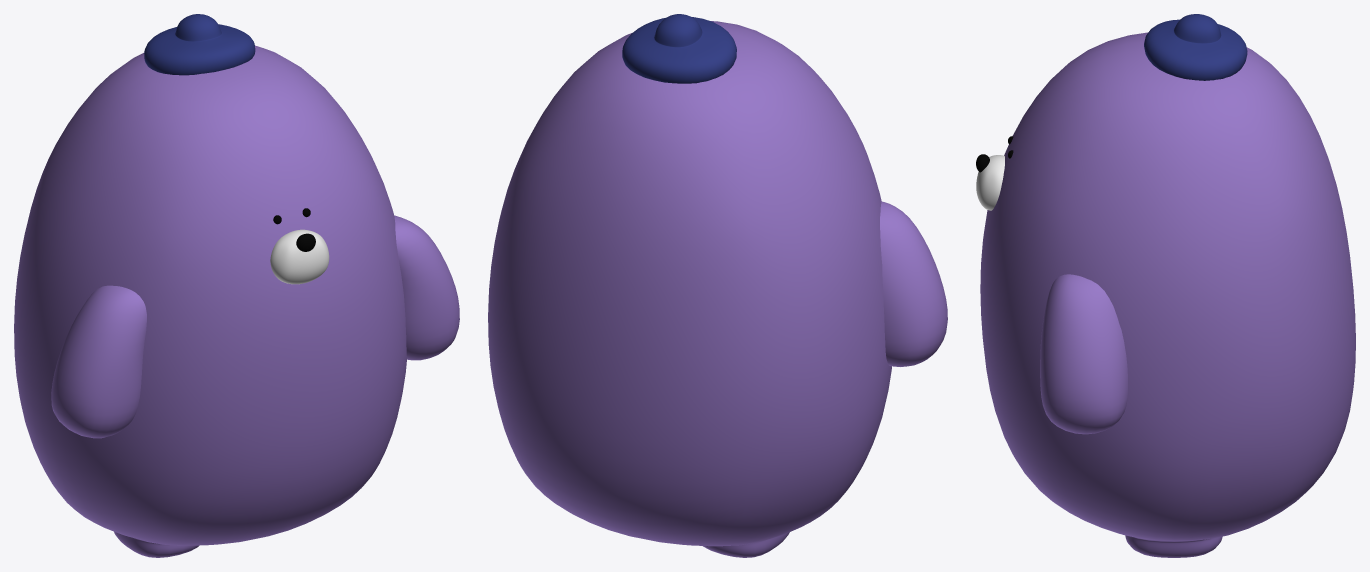
Rendered from Sol3.glb.
3 views of the same model, side by side, from view 1: azimuth 30°, elevation 25°; view 2: azimuth 150°, elevation 25°; view 3: azimuth 270°, elevation 25° (orthographic). The views are drawn at different scales.
Visible parts, largest first — view 1: Body; view 2: Body; view 3: Body.
Part boxes in pixels (bbox=[...]): Body: bbox=[14, 14, 459, 557]; Body: bbox=[488, 14, 947, 557]; Body: bbox=[976, 14, 1355, 557].
Size of the model in its own units: 1.95 by 2.39 by 1.63.
